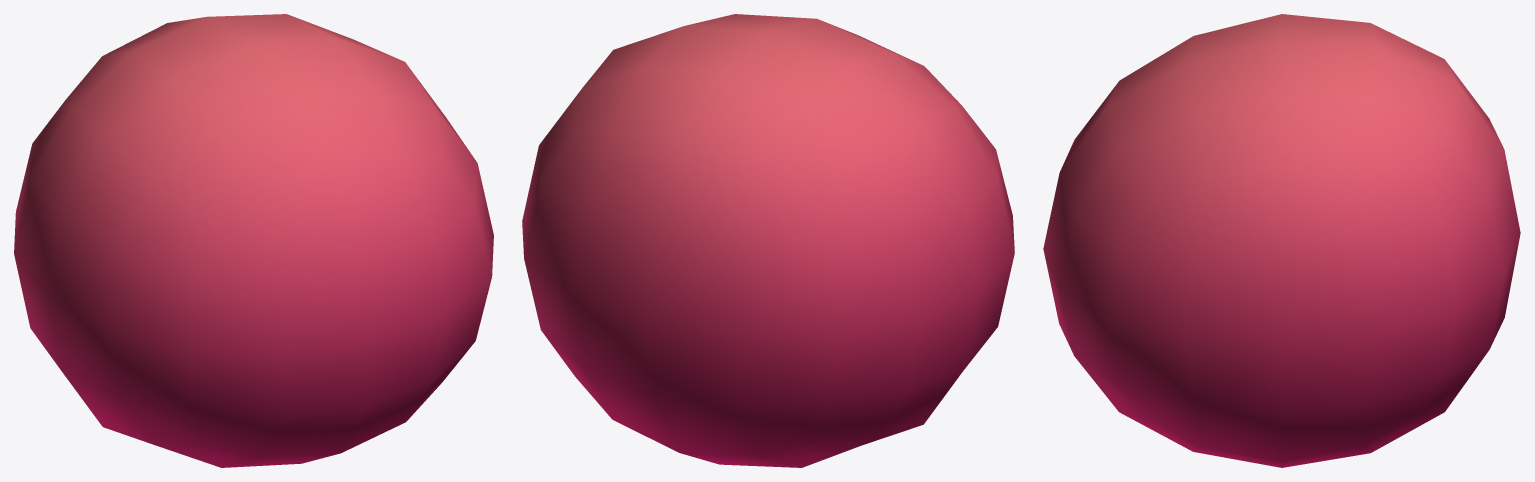
The model's file is SuspensionMarkDotTwo.dae.
3 renders of one model, left to right at view 1: azimuth 30°, elevation 25°; view 2: azimuth 150°, elevation 25°; view 3: azimuth 270°, elevation 25°, orthographic. The views are drawn at different scales.
Parts seen in each view (by area): view 1: Cube_014; view 2: Cube_014; view 3: Cube_014.
Boxes of the visible parts, left/top/right/bottom form: Cube_014: left=14, top=14, right=493, bottom=467; Cube_014: left=522, top=14, right=1014, bottom=467; Cube_014: left=1043, top=14, right=1520, bottom=467.
Bounding box in the file's own units: 0.5974 × 0.595 × 0.5502.
Materials: 1 (1 with a texture image).
